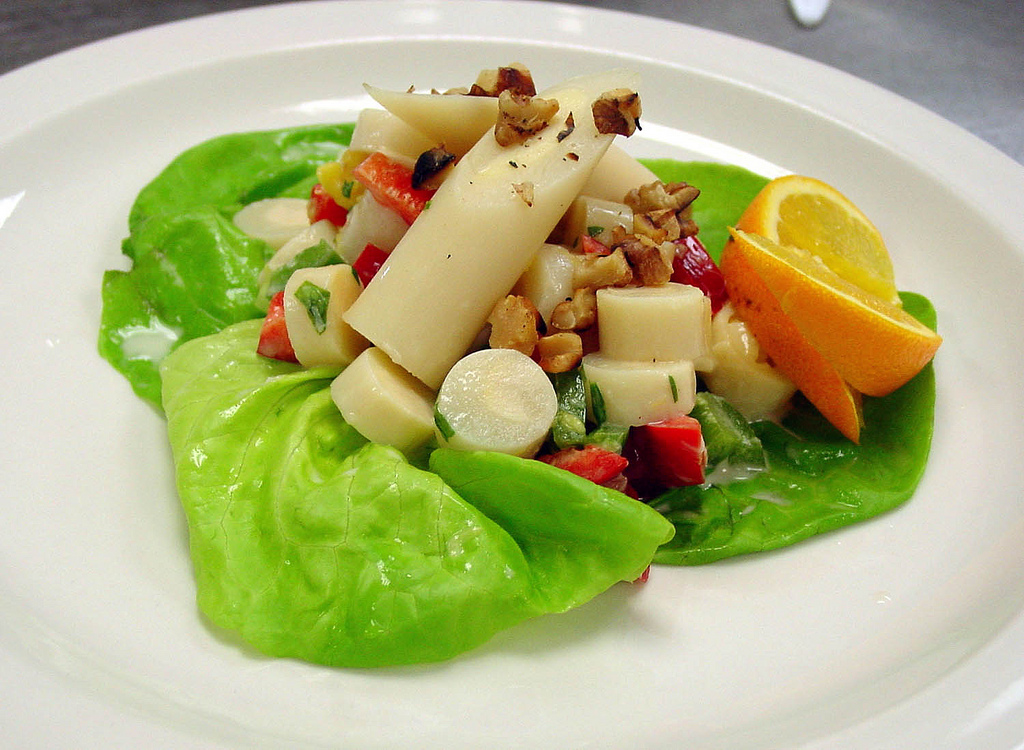chopped lettuce: (169, 310, 673, 689), (126, 123, 407, 408), (661, 357, 941, 569)
